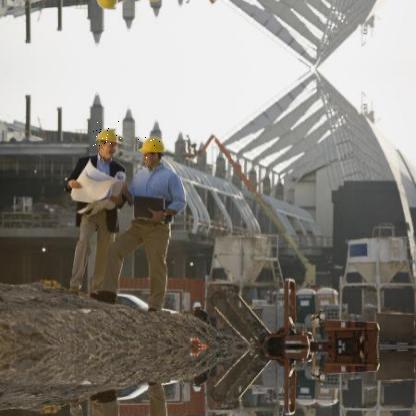safetyhelmet: (91, 119, 123, 148), (135, 132, 165, 160)
